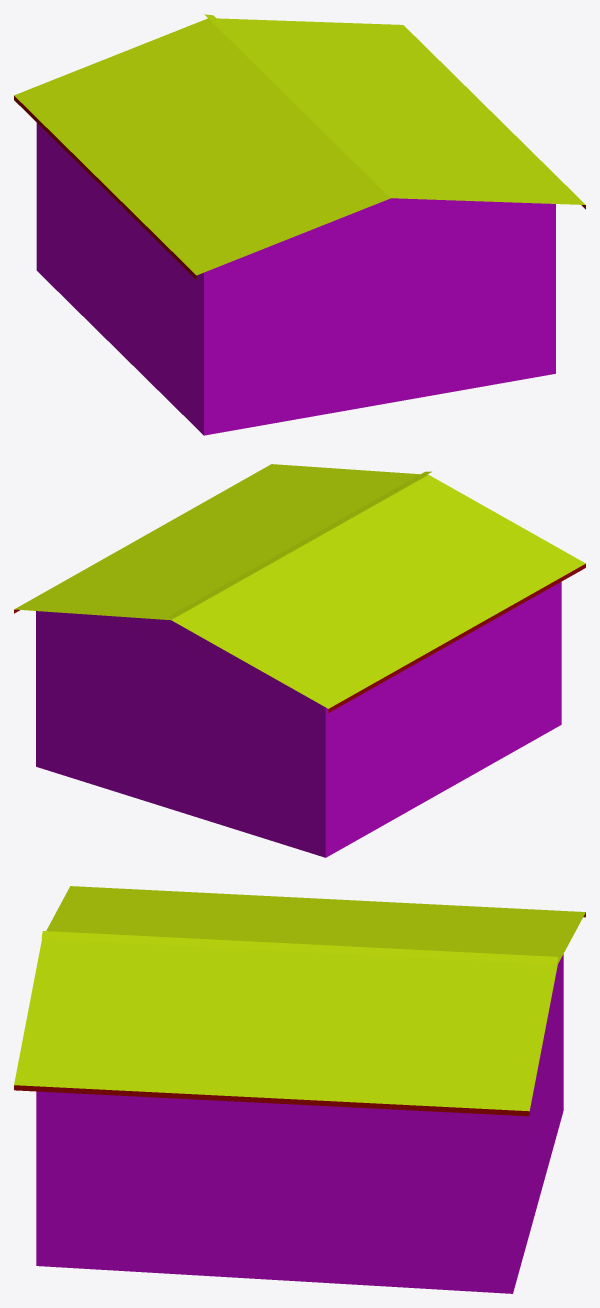
Rendered from bgj_19.glb.
3 renders of one model, top to bottom at view 1: azimuth 30°, elevation 25°; view 2: azimuth 150°, elevation 25°; view 3: azimuth 270°, elevation 25°, orthographic. The views are drawn at different scales.
Parts seen in each view (by area): view 1: bgj_19; view 2: bgj_19; view 3: bgj_19.
Boxes of the visible parts, left/top/right/bottom form: bgj_19: left=14, top=14, right=585, bottom=435; bgj_19: left=14, top=464, right=585, bottom=857; bgj_19: left=14, top=886, right=585, bottom=1293.
Size of the model in its own units: 11.15 by 5.63 by 11.97.
